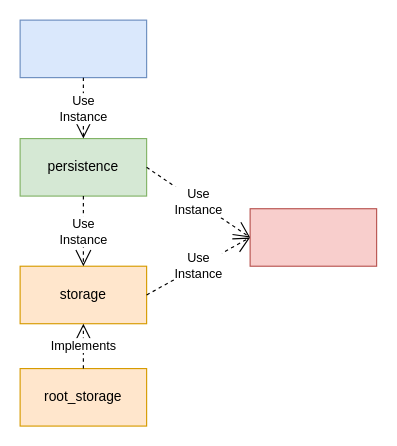
The diagram is 397 pixels wide and 446 high, and some of its shapes have lost their labels. Each missing label, with the centre of its shape:
"core" goes at (x=313, y=237).
"form" goes at (x=83, y=48).
